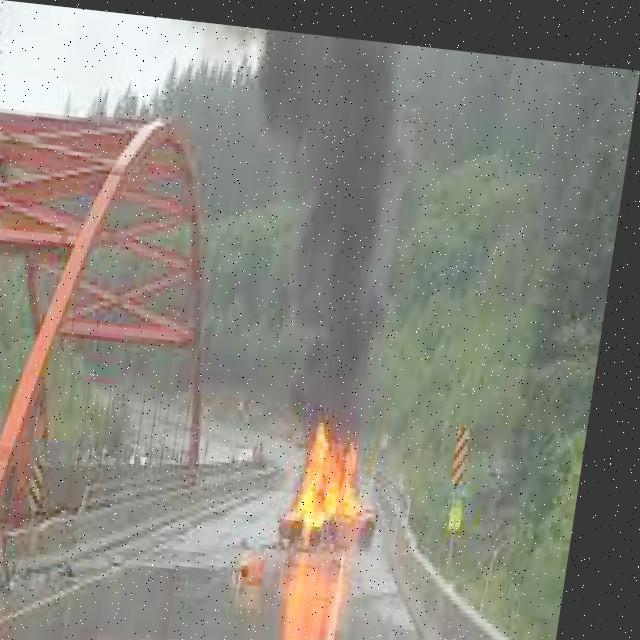Fire: (284, 403, 410, 558)
